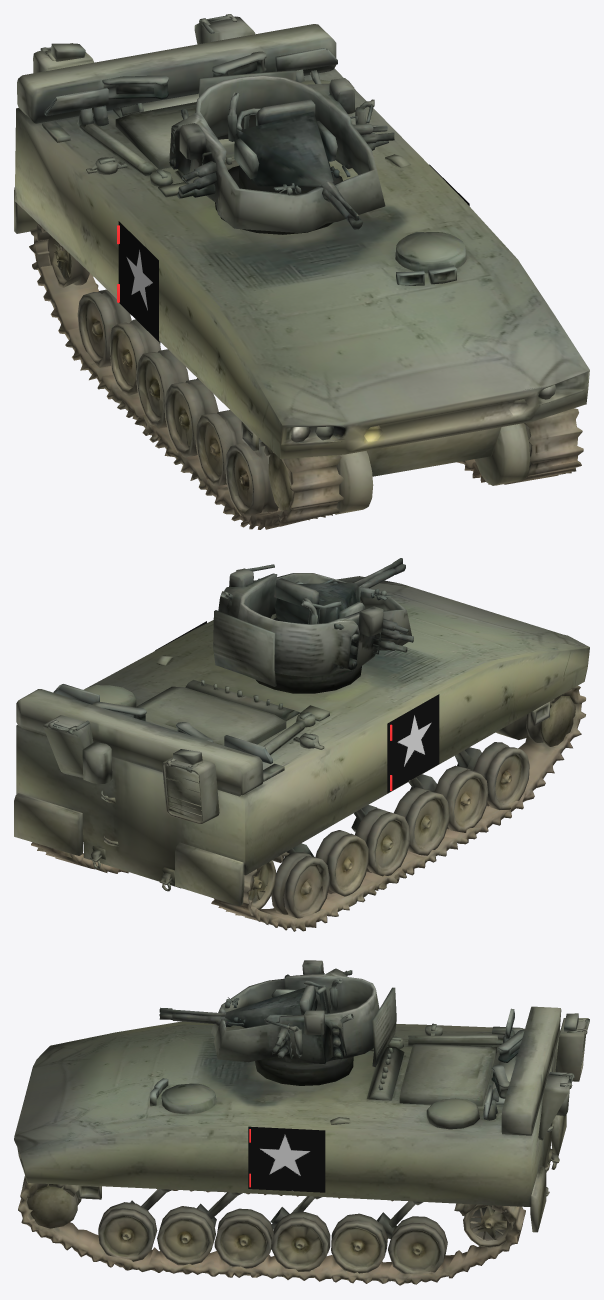
File: BX opfor BMP.glb
3 views of the same model, one above another, from view 1: azimuth 30°, elevation 25°; view 2: azimuth 150°, elevation 25°; view 3: azimuth 270°, elevation 25° (orthographic). The views are drawn at different scales.
Parts seen in each view (by area): view 1: tripo_node_b858fb1a.002, tripo_node_b858fb1a.003, Plane.002; view 2: tripo_node_b858fb1a.002, tripo_node_b858fb1a.003, Plane.002; view 3: tripo_node_b858fb1a.002, tripo_node_b858fb1a.003, Plane.004.
Boxes of the visible parts, x1,y1,x2,y2 form: tripo_node_b858fb1a.002: [14, 14, 589, 529]; tripo_node_b858fb1a.003: [169, 70, 394, 234]; Plane.002: [117, 221, 158, 341]; tripo_node_b858fb1a.002: [14, 576, 589, 931]; tripo_node_b858fb1a.003: [213, 558, 413, 693]; Plane.002: [387, 694, 439, 793]; tripo_node_b858fb1a.002: [14, 1006, 589, 1285]; tripo_node_b858fb1a.003: [159, 960, 396, 1085]; Plane.004: [248, 1126, 325, 1192].
Size of the model in its own units: 1.63 by 1.37 by 3.01.
Materials: 3 (2 with a texture image).
